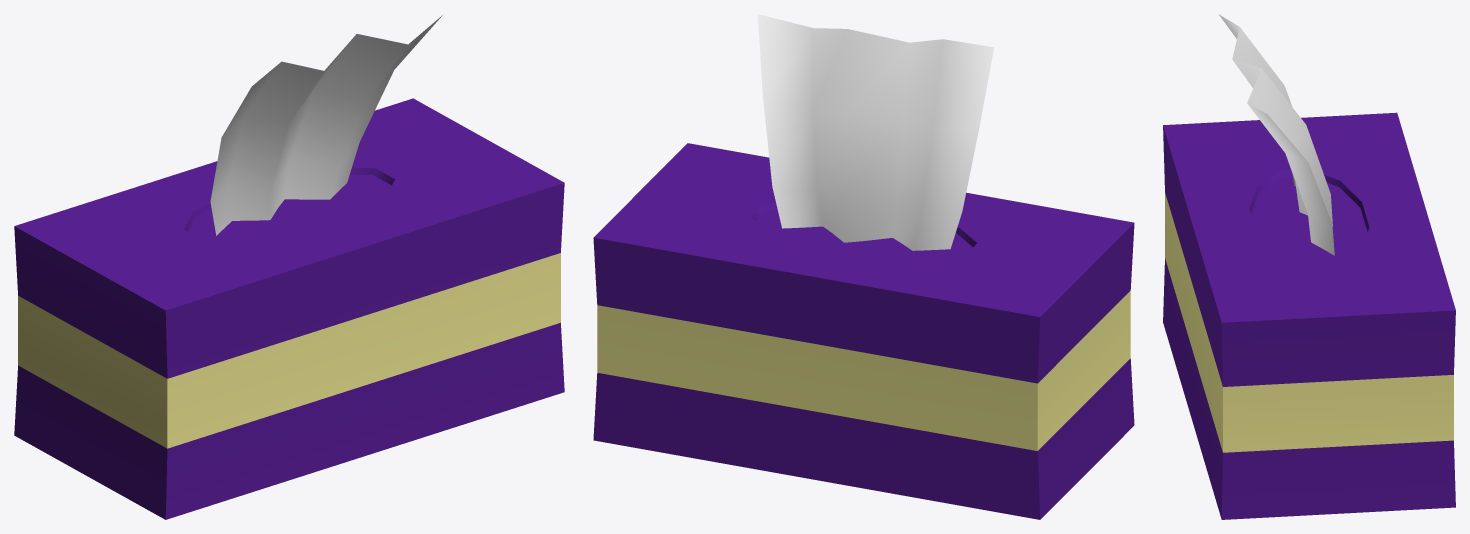
Rendered from Panuelos.fbx.
3 renders of one model, left to right at view 1: azimuth 30°, elevation 25°; view 2: azimuth 150°, elevation 25°; view 3: azimuth 270°, elevation 25°, orthographic. The views are drawn at different scales.
Parts seen in each view (by area): view 1: Panuelos; view 2: Panuelos; view 3: Panuelos.
Part boxes in pixels (x1,y1,x2,y2): Panuelos: (14,14,564,519); Panuelos: (593,14,1134,519); Panuelos: (1163,14,1455,519).
Size of the model in its own units: 26.13 by 21.32 by 15.4.
